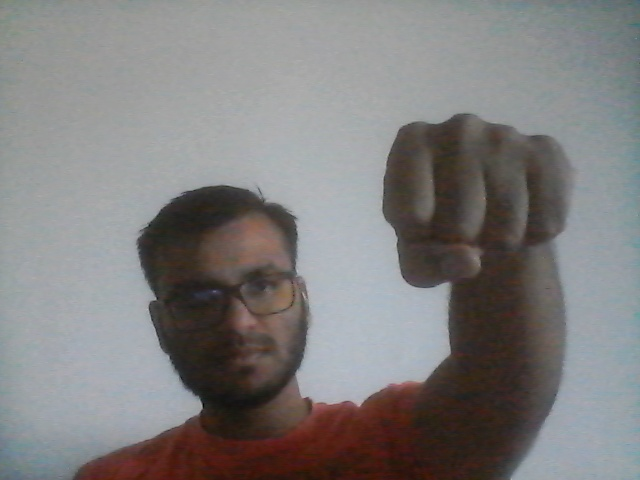Thanks: (370, 108, 588, 289)
